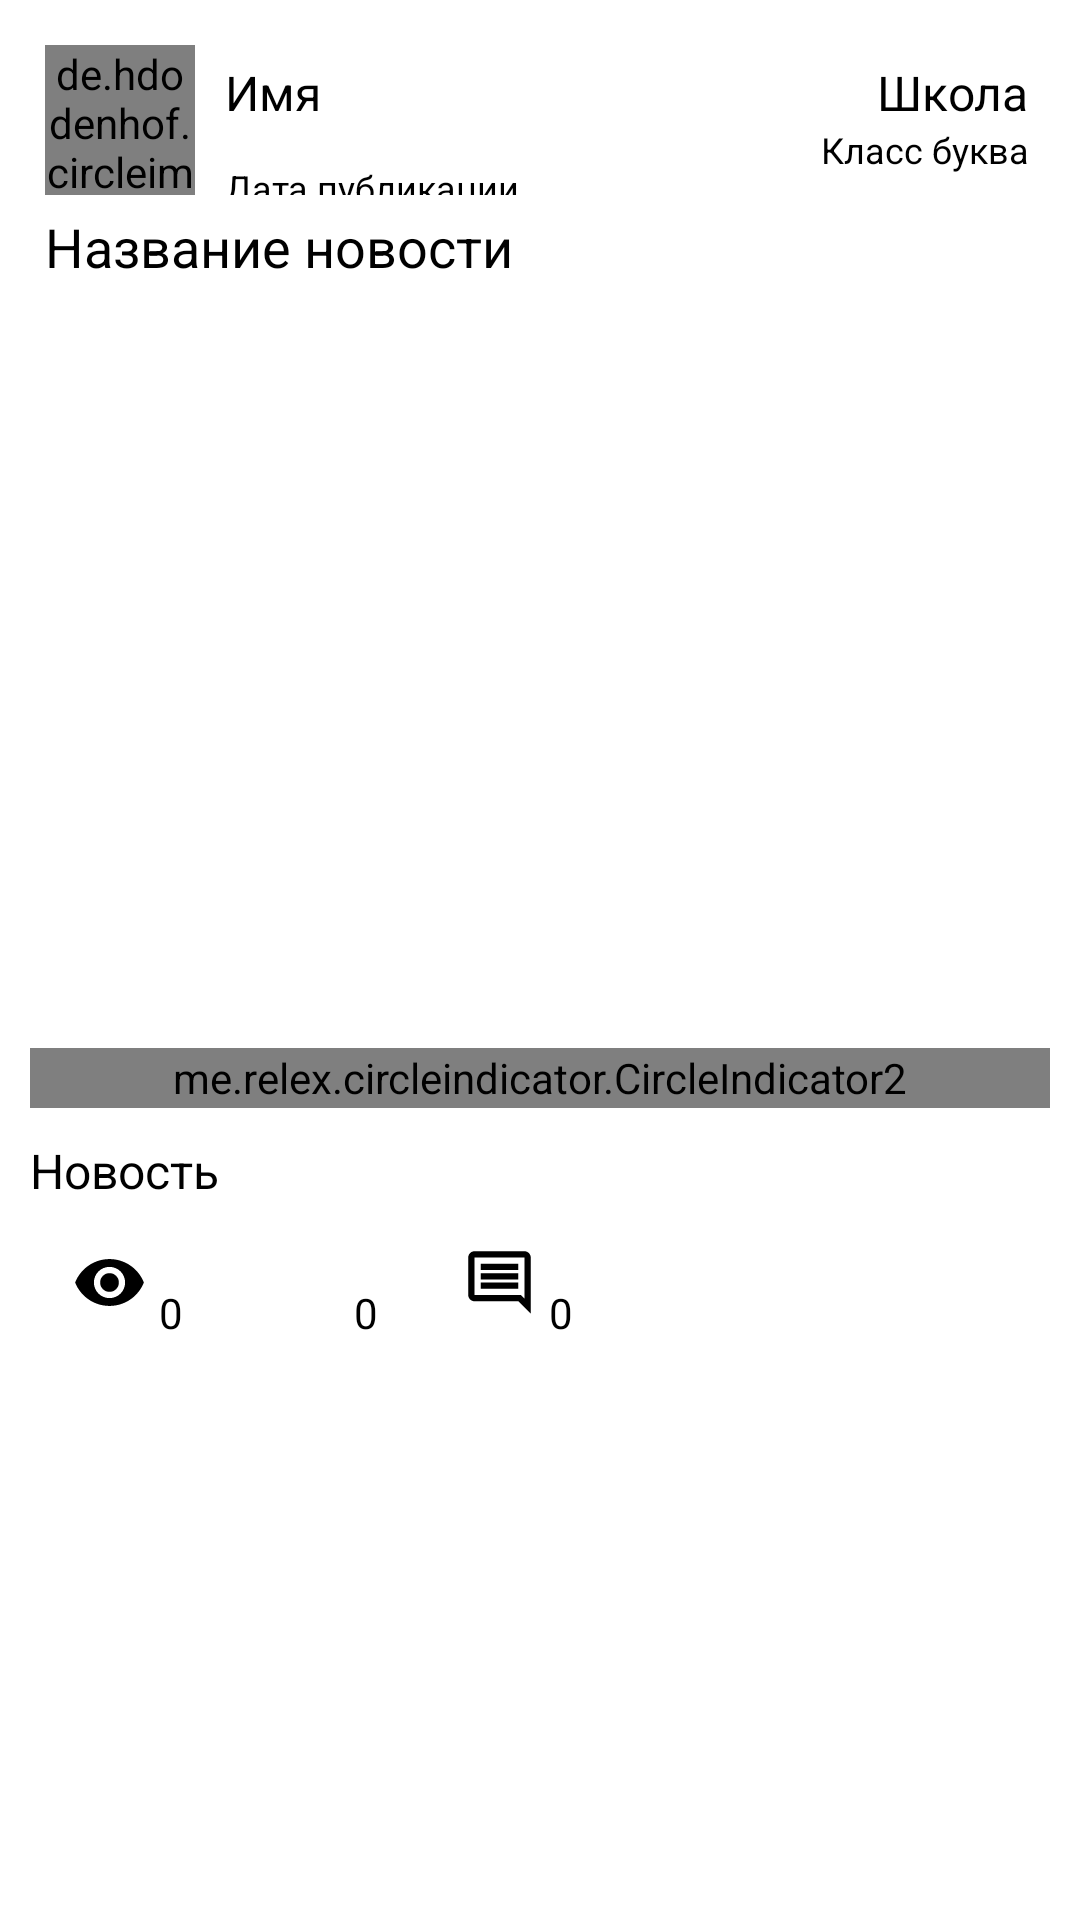

Where to tap for icons on this 1080w x 1920h app screen, as (x,y):
comment: (499,1282)
visibility: (109,1282)
